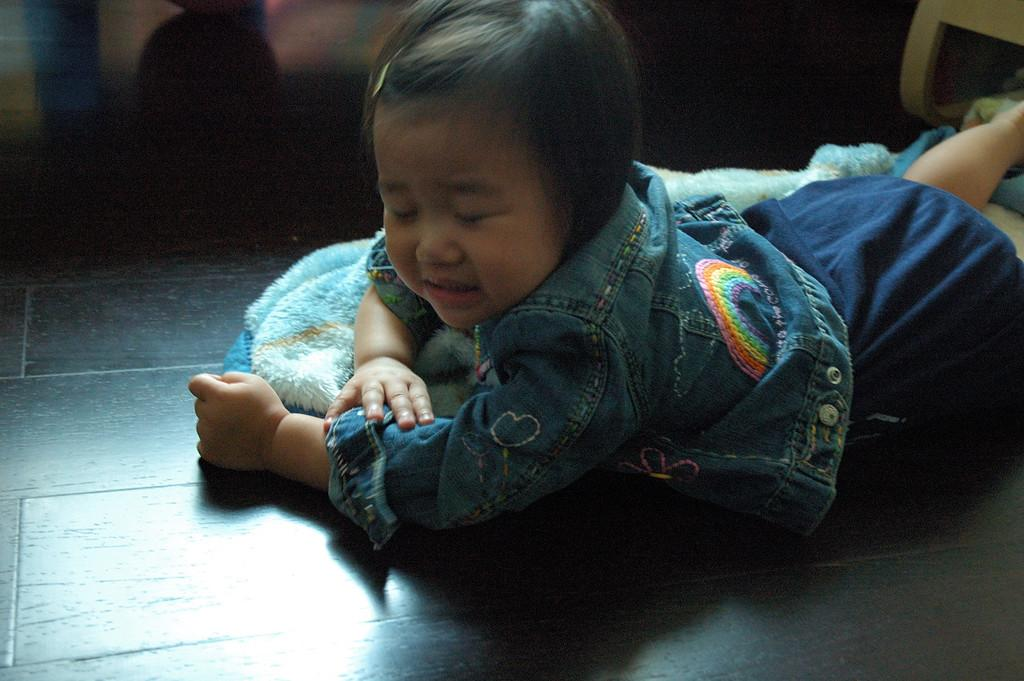Sem Máscara: (370, 116, 567, 336)
